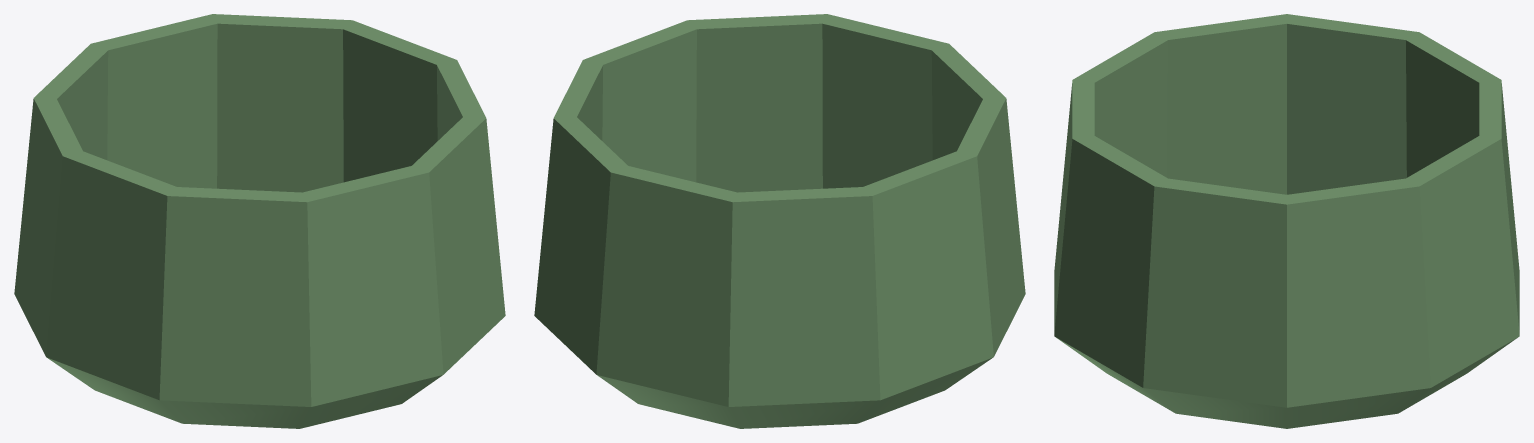
The model's file is Cup_02_Mesh.fbx.
The picture shows the model from 3 angles, left to right: view 1: azimuth 30°, elevation 25°; view 2: azimuth 150°, elevation 25°; view 3: azimuth 270°, elevation 25°; orthographic projection.
Visible parts, largest first — view 1: KettleCups_Cup_02_col; view 2: KettleCups_Cup_02_col; view 3: KettleCups_Cup_02_col.
Boxes of the visible parts, left/top/right/bottom form: KettleCups_Cup_02_col: left=14, top=14, right=505, bottom=428; KettleCups_Cup_02_col: left=534, top=14, right=1025, bottom=428; KettleCups_Cup_02_col: left=1054, top=14, right=1519, bottom=428.
Size of what is drawn, in the model's own units: 14.57 by 7.87 by 13.86.
